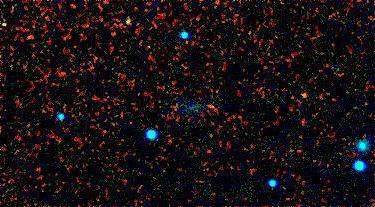star: (287, 80, 317, 110)
